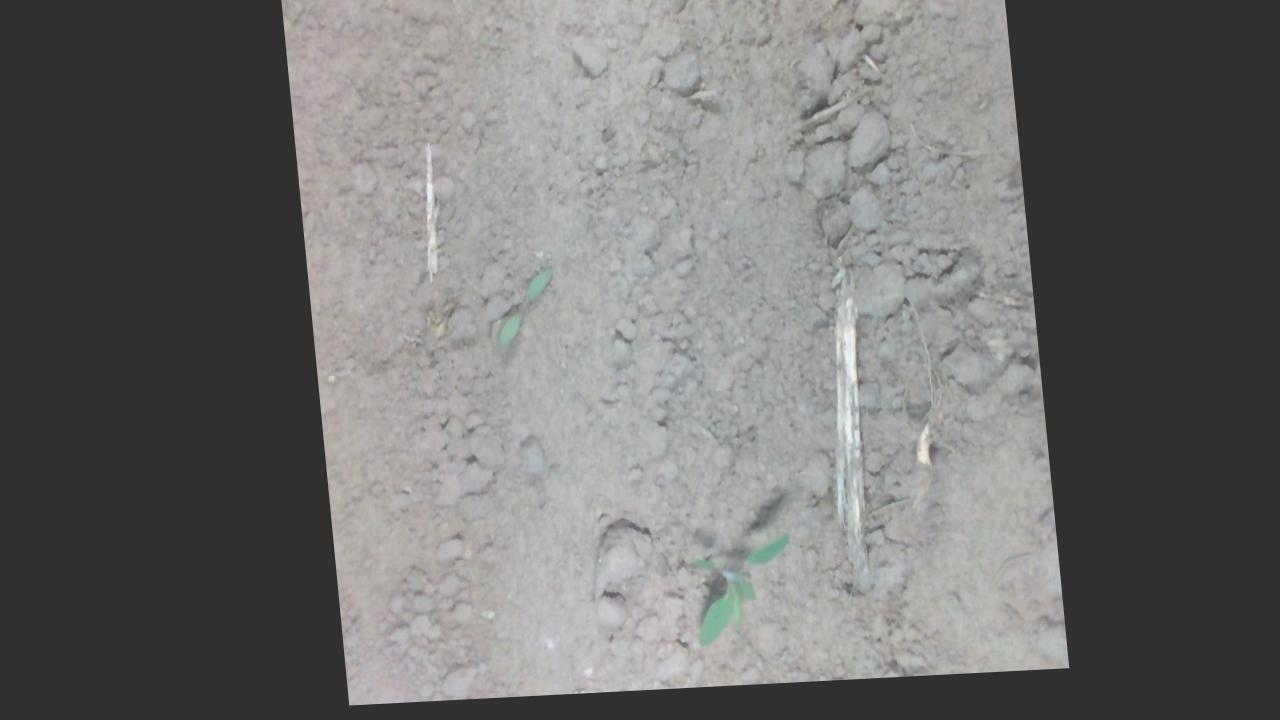weed: (674, 541, 788, 655), (483, 273, 553, 354)
